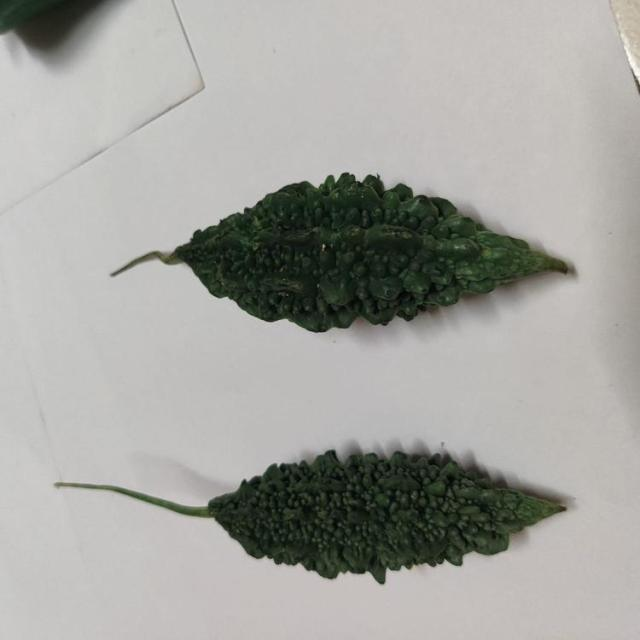Organik: (109, 172, 578, 341), (72, 431, 578, 586)
